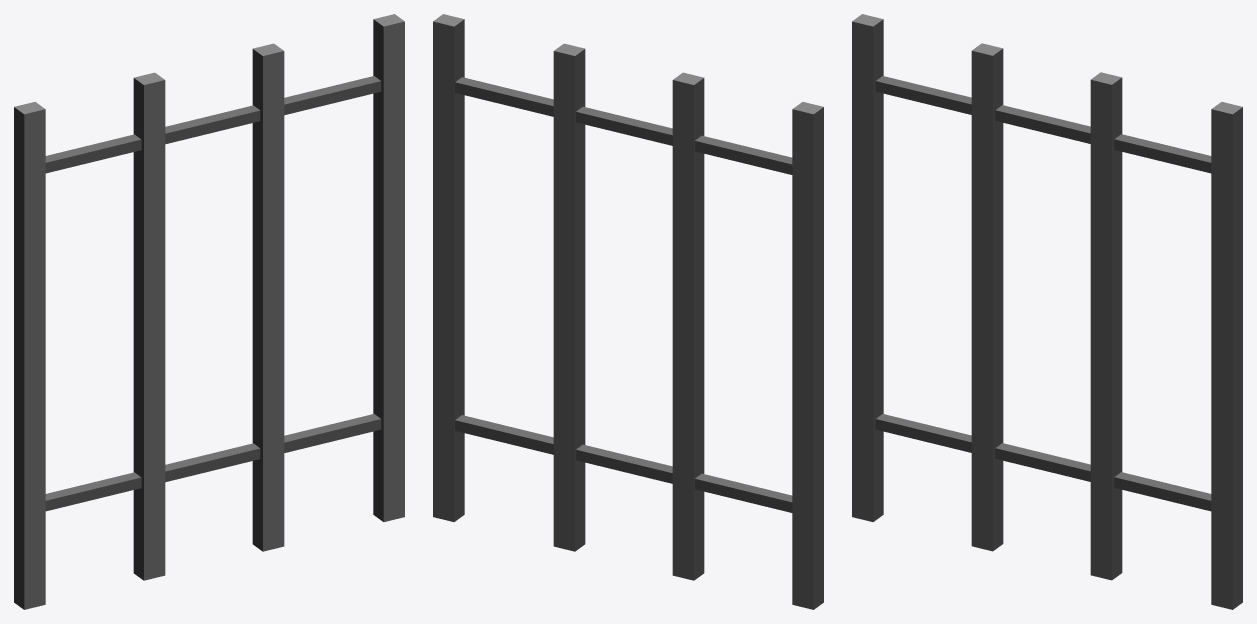
The model's file is fence_short_mesh.fbx.
The picture shows the model from 3 angles, left to right: view 1: azimuth 30°, elevation 25°; view 2: azimuth 150°, elevation 25°; view 3: azimuth 330°, elevation 25°; orthographic projection.
Parts seen in each view (by area): view 1: fence_short_mesh; view 2: fence_short_mesh; view 3: fence_short_mesh.
Boxes of the visible parts, left/top/right/bottom form: fence_short_mesh: left=14, top=14, right=404, bottom=609; fence_short_mesh: left=433, top=14, right=823, bottom=609; fence_short_mesh: left=852, top=14, right=1242, bottom=609.
Size of the model in its own units: 2.54 by 3.16 by 0.1183.
